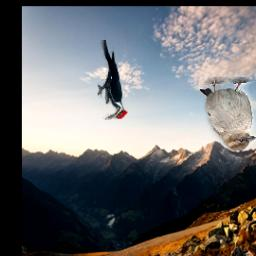Sparrow: (200, 77, 256, 151)
Woodpecker: (98, 40, 128, 120)
